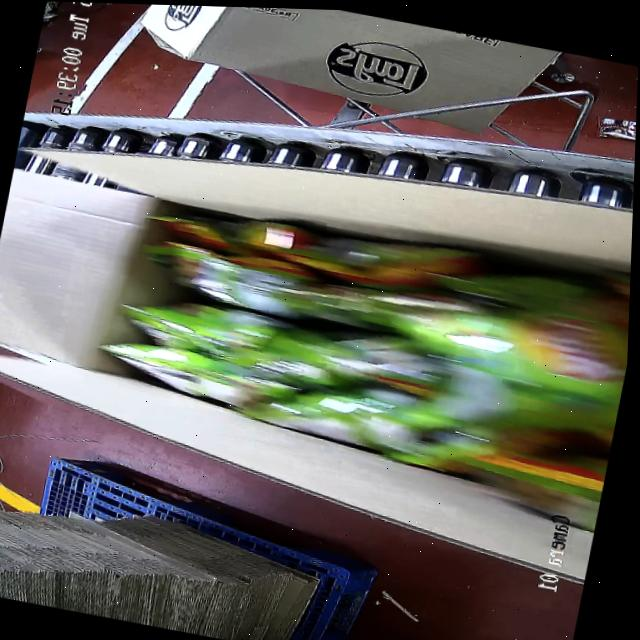YOGURT_HERB: (79, 181, 633, 508)
